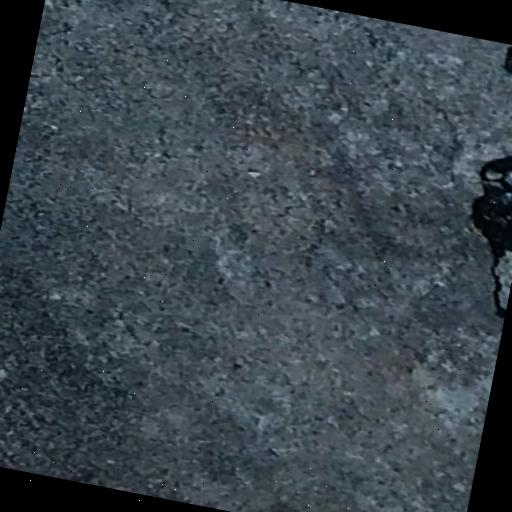spalling: (461, 49, 512, 328)
